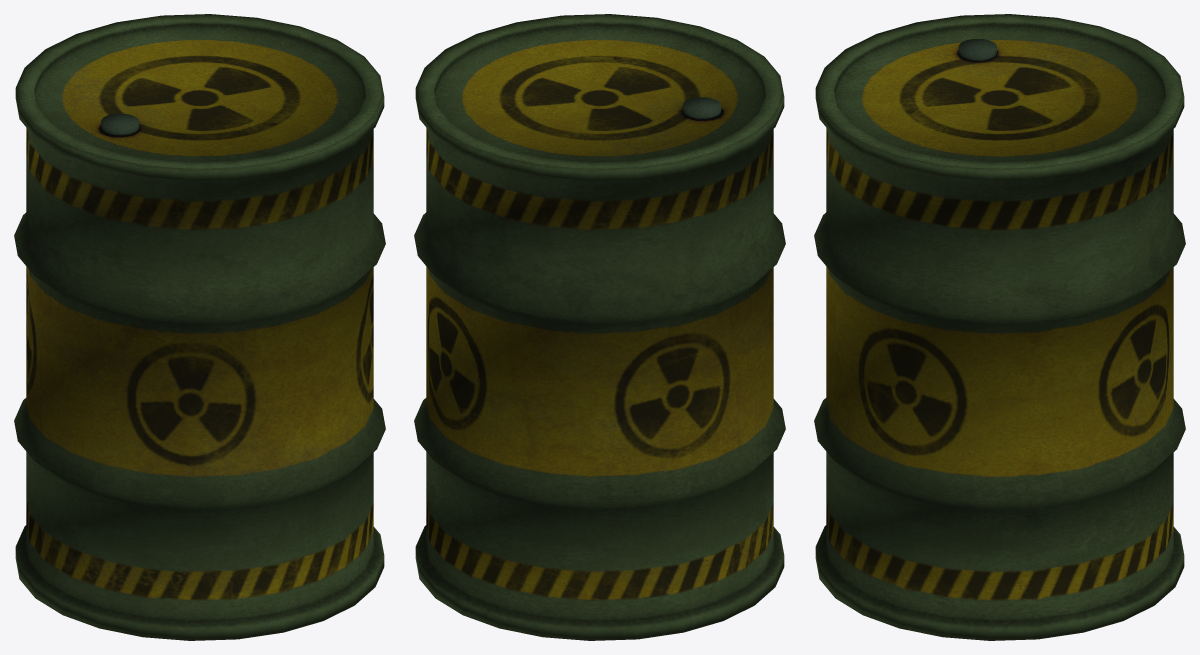
File: barril.fbx
3 views of the same model, side by side, from view 1: azimuth 30°, elevation 25°; view 2: azimuth 150°, elevation 25°; view 3: azimuth 270°, elevation 25° (orthographic).
Parts seen in each view (by area): view 1: Cylinder_005; view 2: Cylinder_005; view 3: Cylinder_005.
Boxes of the visible parts, x1,y1,x2,y2 form: Cylinder_005: (14,14,385,640); Cylinder_005: (414,14,785,640); Cylinder_005: (814,14,1185,640).
Bounding box in the file's own units: 345 × 483 × 345.
Materials: 1 (1 with a texture image).
